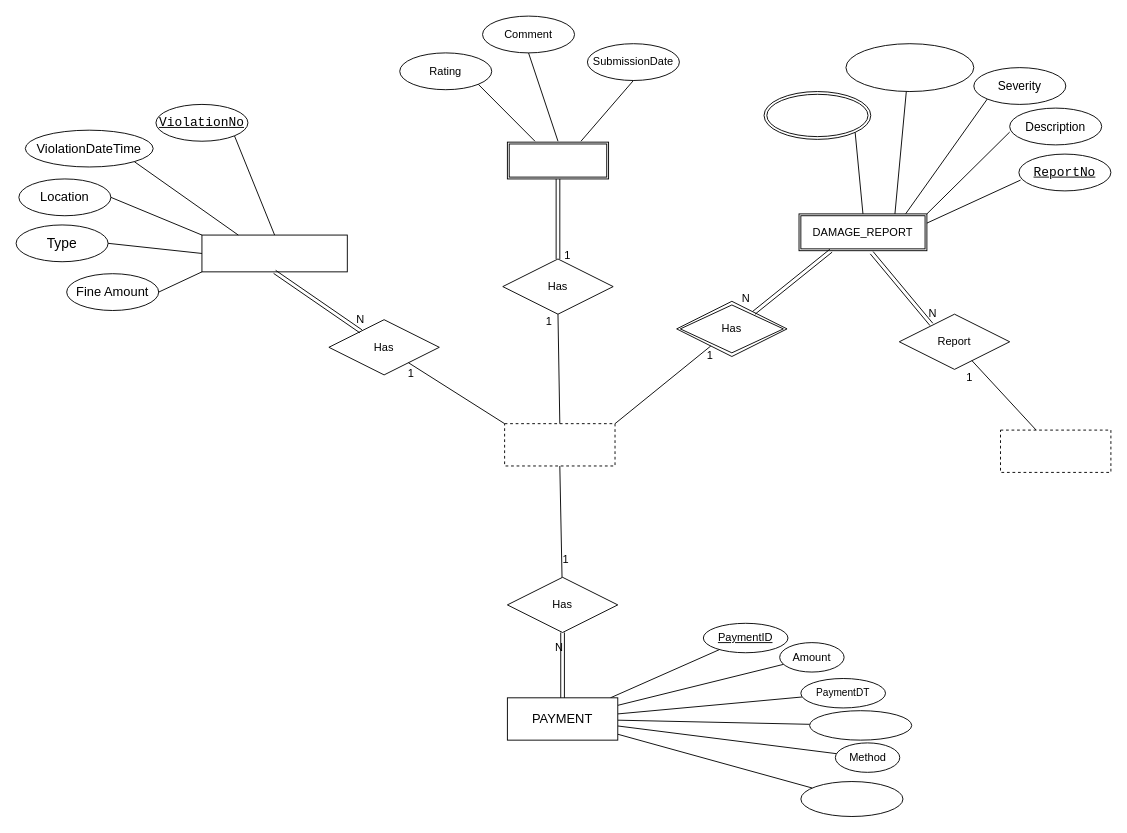
Some shapes in this 1127 by 833 pixel diagram are drawn without their labels. Here are the shapes that lost their labels. From the top down, the centre of each, then its label:
At pixel 909 67: "EstimatedRepairCost".
At pixel 817 115: "Photos".
At pixel 557 160: "FEEDBACK".
At pixel 274 253: "TRAFFIC_VIOLATION".
At pixel 559 444: "RENTAL".
At pixel 1055 450: "EMPLOYEE".
At pixel 860 725: "PaymentType".
At pixel 851 798: "TransactionRef".
